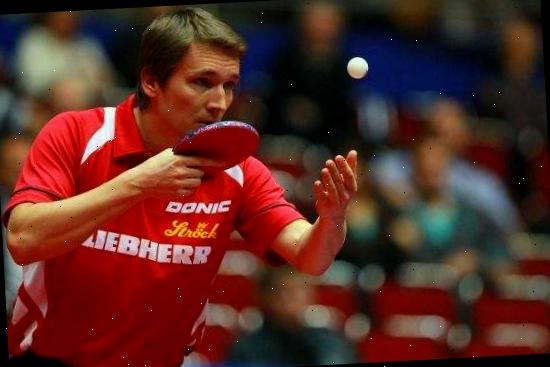ball: (344, 52, 370, 80)
